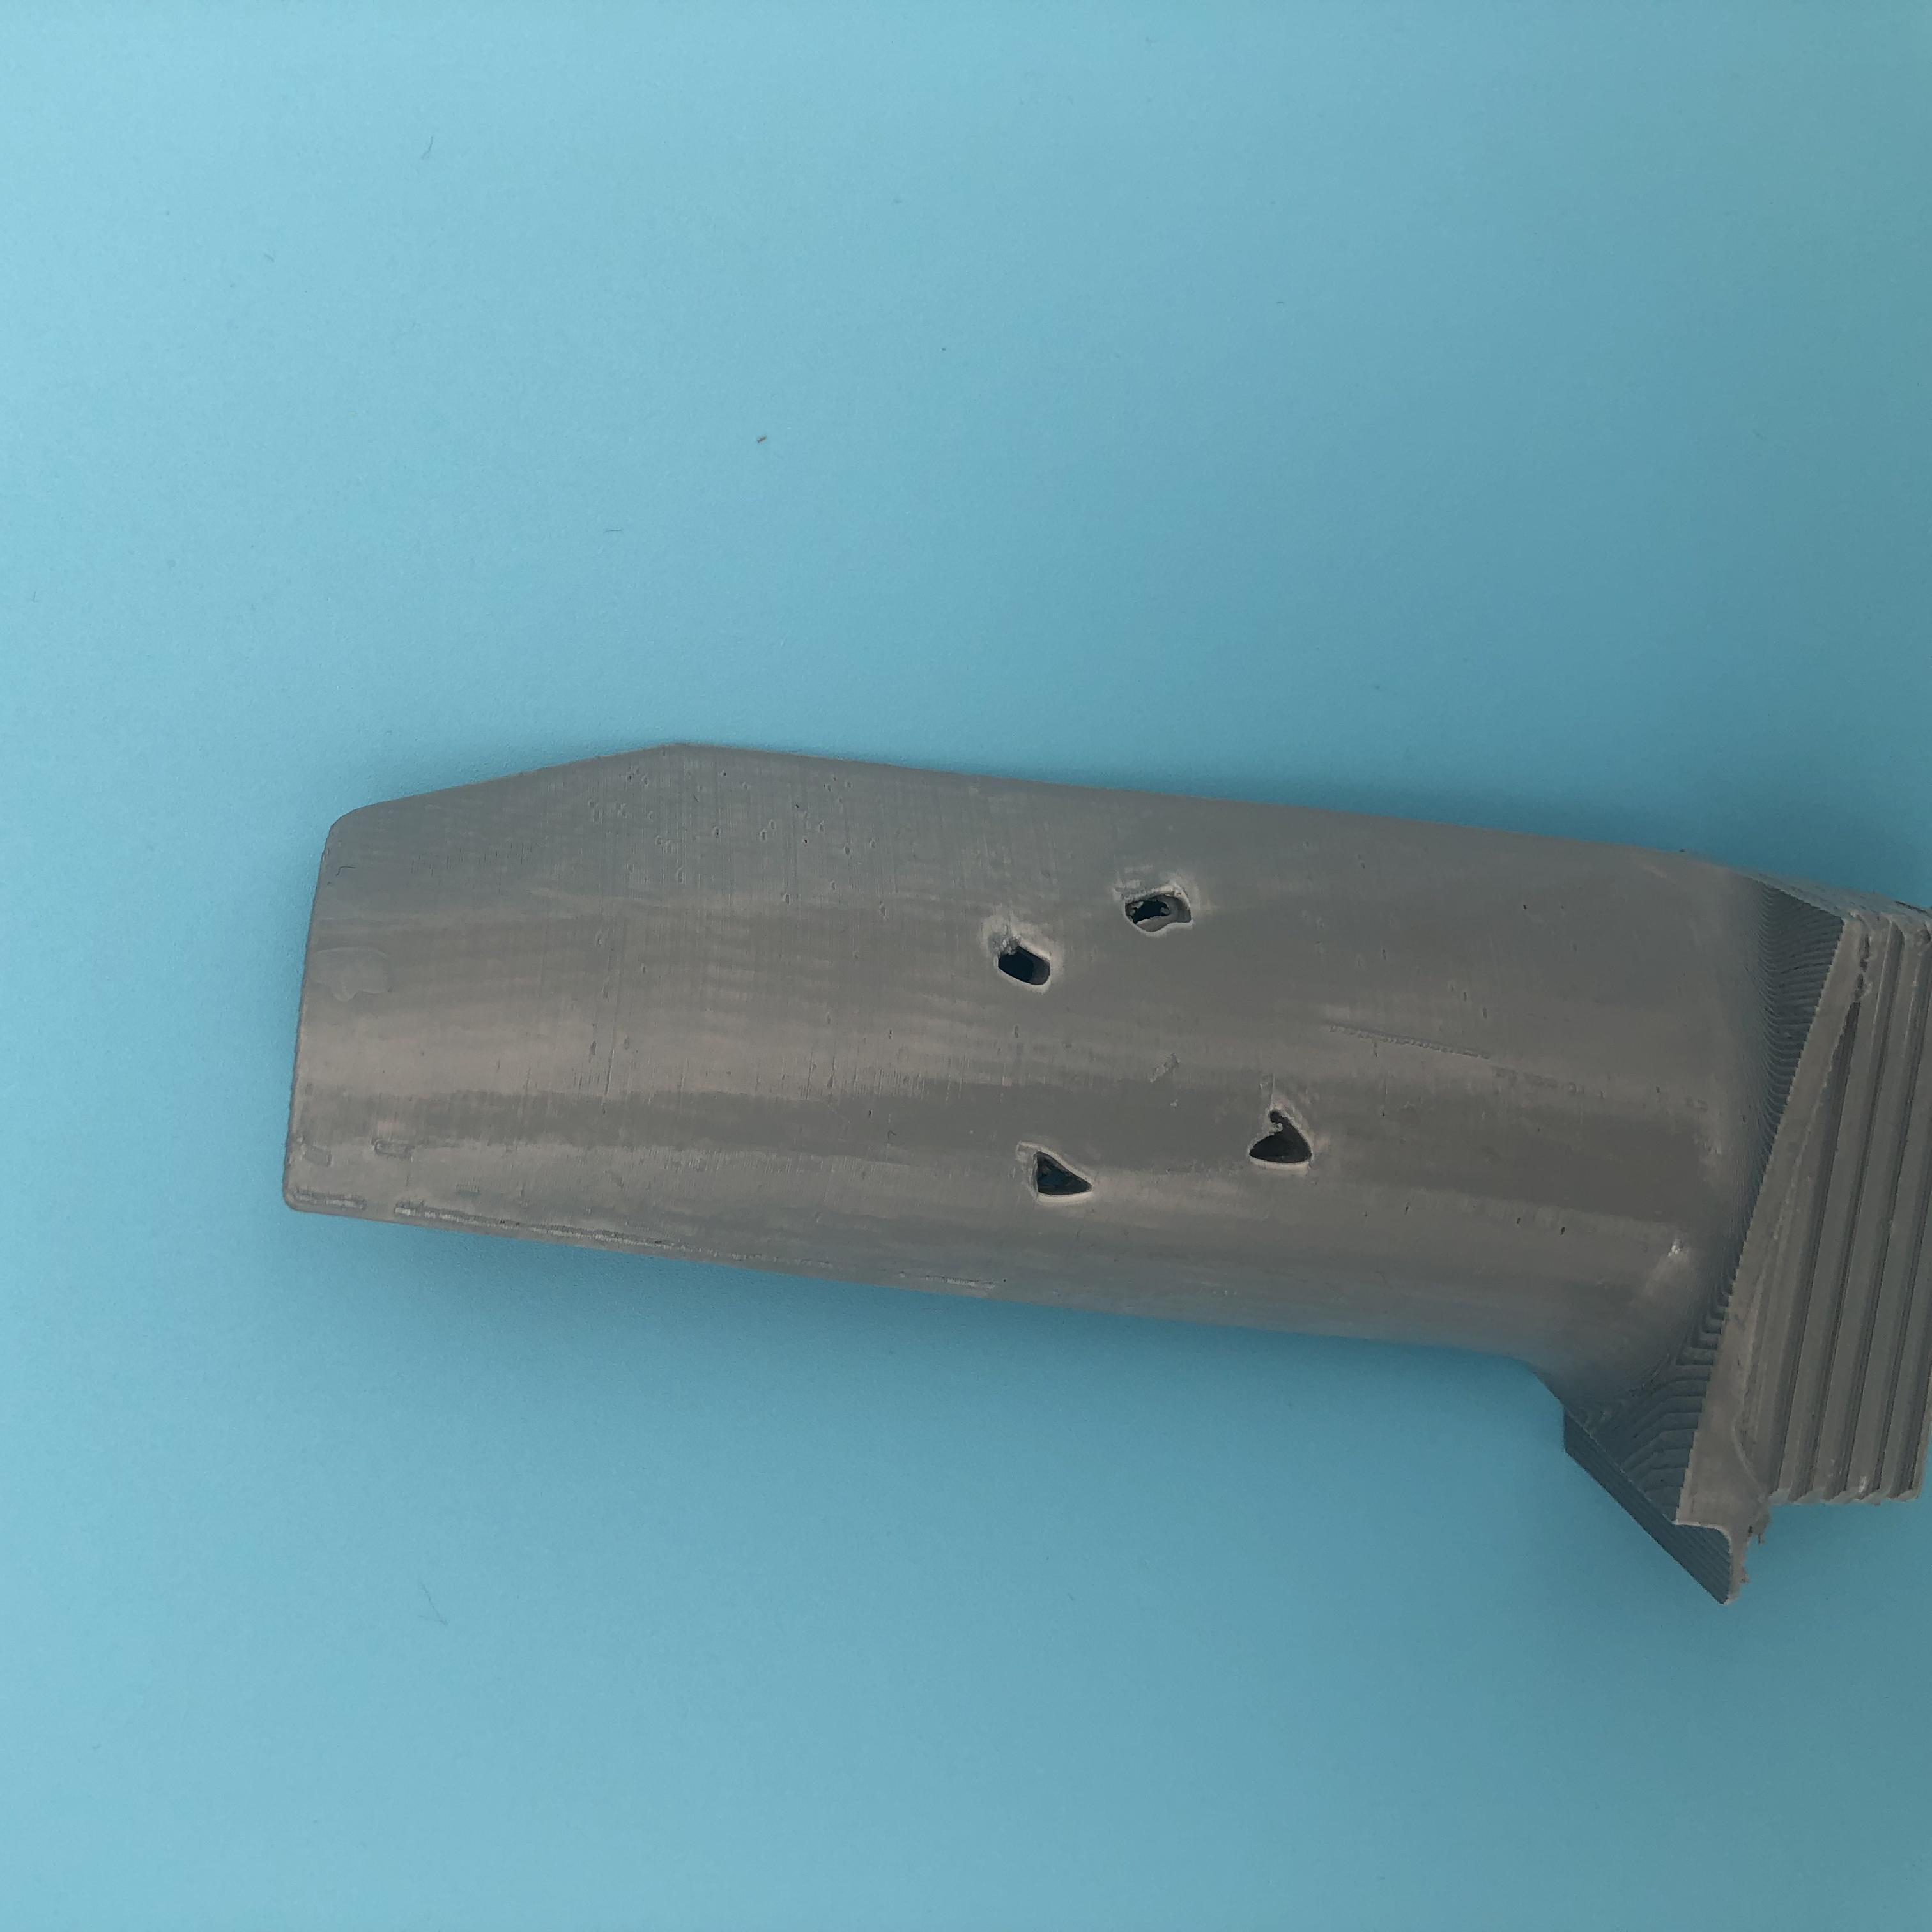breakdown: (1005, 885, 1311, 1198)
